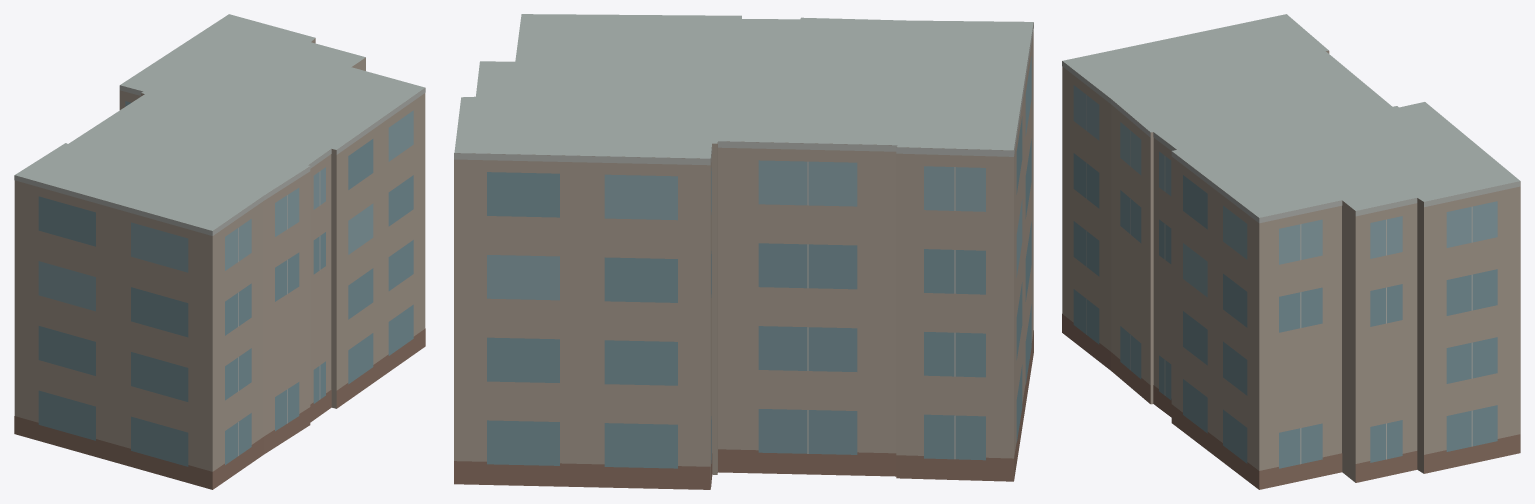
File: survey-upis-32781257.glb
3 renders of one model, left to right at view 1: azimuth 30°, elevation 25°; view 2: azimuth 150°, elevation 25°; view 3: azimuth 270°, elevation 25°, orthographic. The views are drawn at different scales.
Visible parts, largest first — view 1: survey-upis-32781257.tmp; view 2: survey-upis-32781257.tmp; view 3: survey-upis-32781257.tmp.
Boxes of the visible parts, left/top/right/bottom form: survey-upis-32781257.tmp: left=14, top=14, right=425, bottom=489; survey-upis-32781257.tmp: left=454, top=14, right=1033, bottom=489; survey-upis-32781257.tmp: left=1062, top=14, right=1520, bottom=489.
Size of the model in its own units: 19.87 by 12.35 by 18.88.
